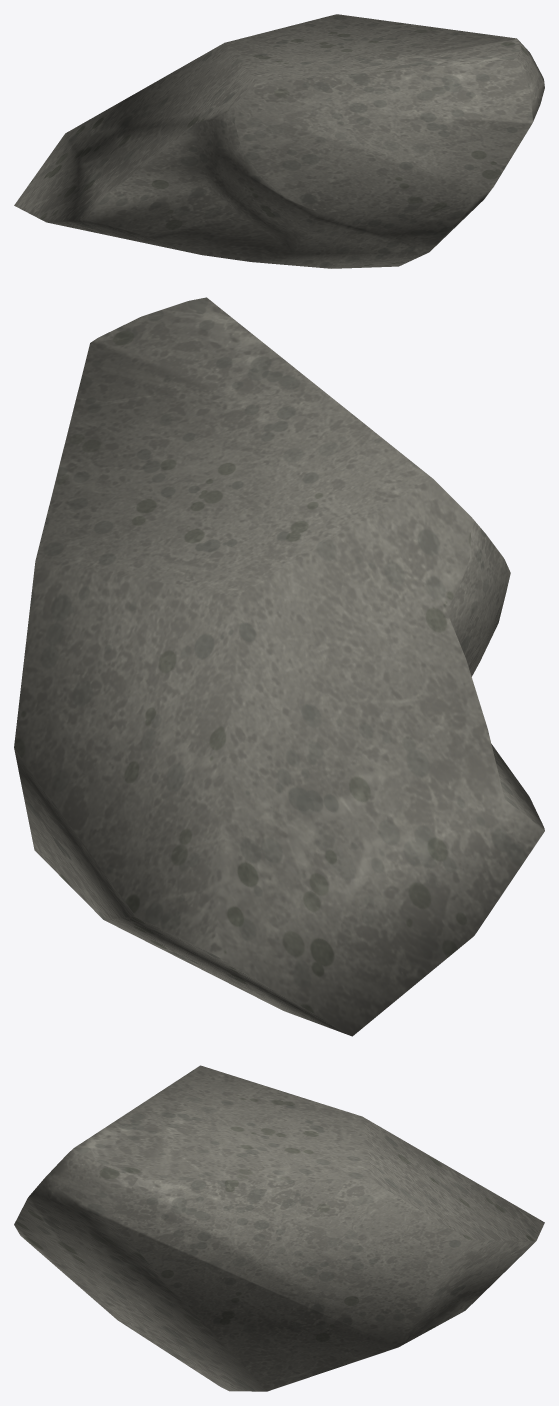
Rendered from rock5.fbx.
The picture shows the model from 3 angles, top to bottom: view 1: azimuth 30°, elevation 25°; view 2: azimuth 150°, elevation 25°; view 3: azimuth 270°, elevation 25°; orthographic projection. The views are drawn at different scales.
Parts seen in each view (by area): view 1: rock.004; view 2: rock.004; view 3: rock.004.
Boxes of the visible parts, x1,y1,x2,y2 form: rock.004: [14, 14, 544, 268]; rock.004: [14, 297, 544, 1036]; rock.004: [14, 1065, 544, 1391].
Size of the model in its own units: 248 by 162 by 294.
